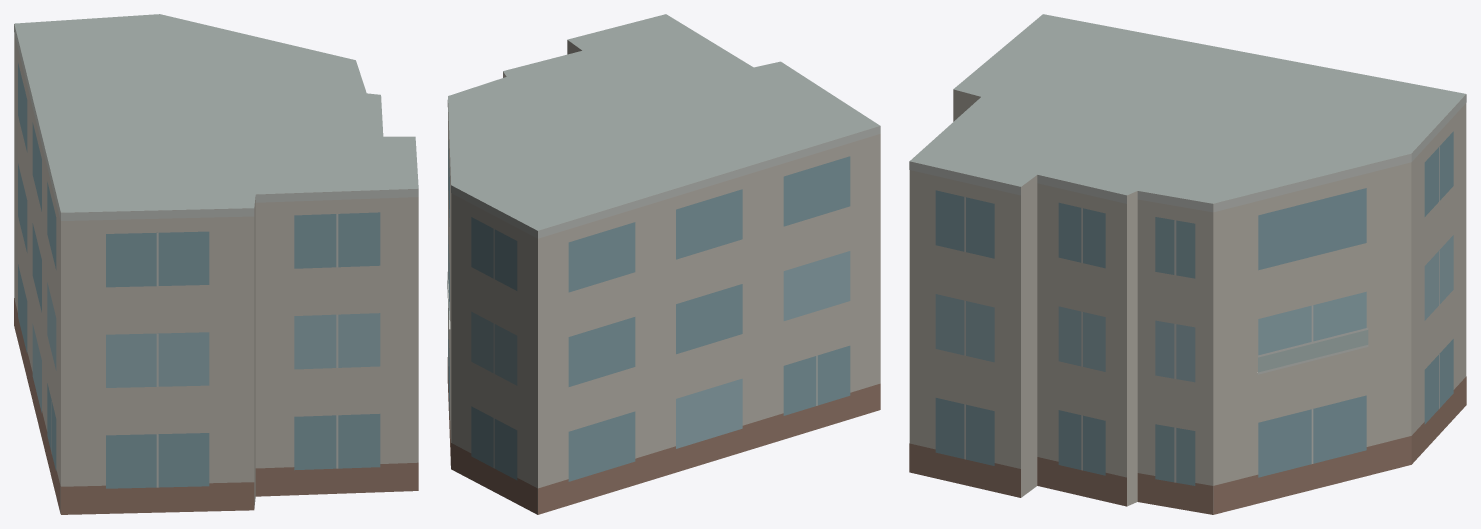
The model's file is survey-upis-32813759.glb.
The picture shows the model from 3 angles, left to right: view 1: azimuth 30°, elevation 25°; view 2: azimuth 150°, elevation 25°; view 3: azimuth 270°, elevation 25°; orthographic projection. The views are drawn at different scales.
Parts seen in each view (by area): view 1: survey-upis-32813759.tmp; view 2: survey-upis-32813759.tmp; view 3: survey-upis-32813759.tmp.
Part boxes in pixels (x1,y1,x2,y2): survey-upis-32813759.tmp: [14, 14, 418, 514]; survey-upis-32813759.tmp: [447, 14, 880, 514]; survey-upis-32813759.tmp: [909, 14, 1466, 514].
Bounding box in the file's own units: 11.52 × 8.8 × 14.29.
